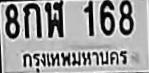1: (83, 0, 95, 36)
6: (99, 0, 115, 36)
8: (4, 3, 20, 39), (119, 0, 135, 35)
A01: (22, 2, 42, 39)
A42: (44, 0, 64, 38)
BKK: (19, 45, 131, 73)
